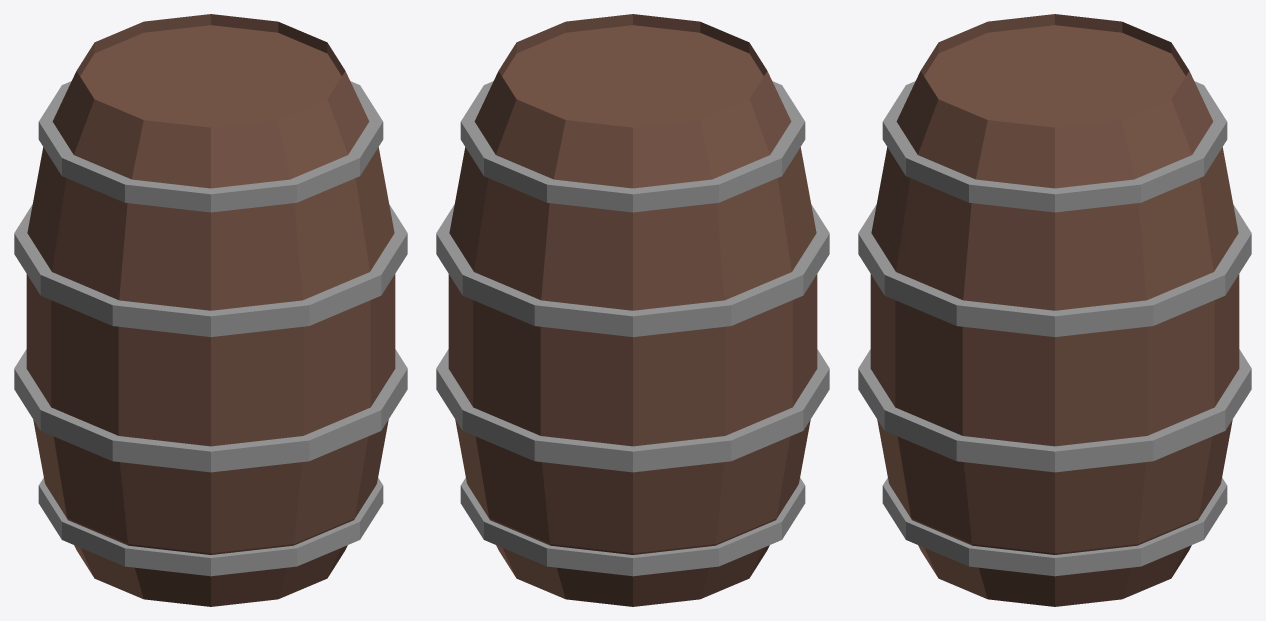
File: barrel-2-by-spookywut--i-8GB8hZSOCno.glb
3 views of the same model, side by side, from view 1: azimuth 30°, elevation 25°; view 2: azimuth 150°, elevation 25°; view 3: azimuth 270°, elevation 25° (orthographic).
Visible parts, largest first — view 1: Node; view 2: Node; view 3: Node.
Part boxes in pixels (bbox=[...]): Node: bbox=[14, 14, 407, 606]; Node: bbox=[436, 14, 829, 606]; Node: bbox=[858, 14, 1251, 606].
Size of the model in its own units: 0.32 by 0.43 by 0.32.
